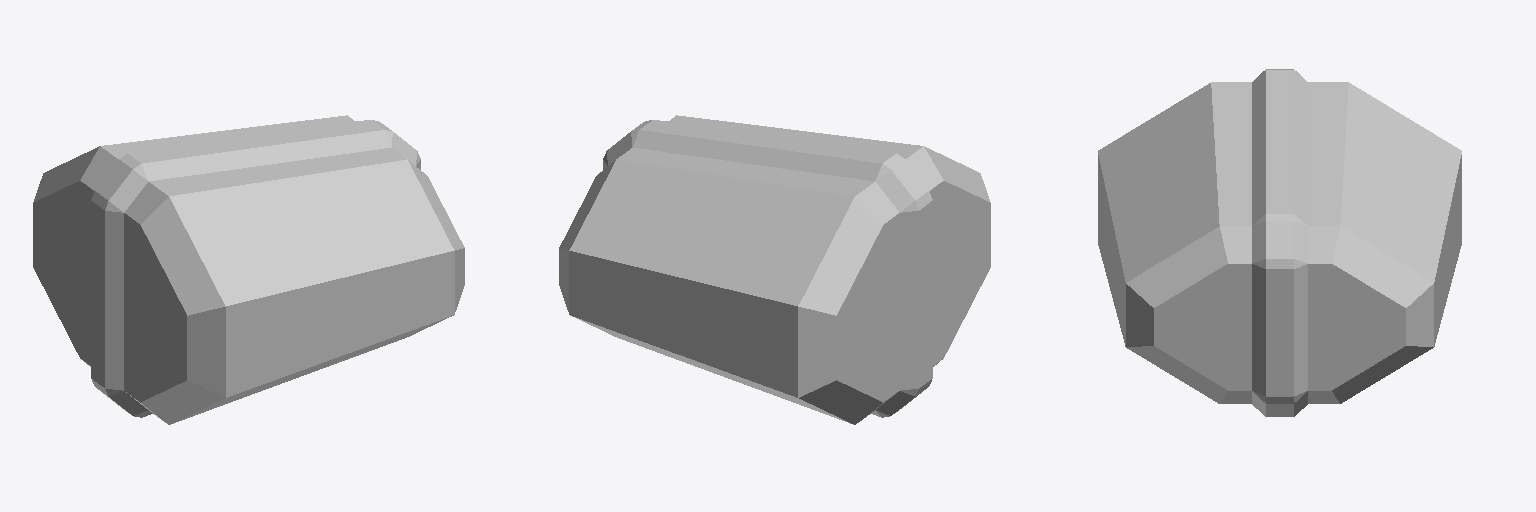
The model's file is Spacestation_Weapon_Modular_Gun_Barrel_Angled.obj.
3 renders of one model, left to right at view 1: azimuth 30°, elevation 25°; view 2: azimuth 150°, elevation 25°; view 3: azimuth 270°, elevation 25°, orthographic.
Parts seen in each view (by area): view 1: object1, object2; view 2: object1, object2; view 3: object1, object2.
Boxes of the visible parts, box(x1,y1,x2,y2) form: object1: box(33, 115, 464, 424); object2: box(91, 120, 420, 417); object1: box(559, 115, 990, 424); object2: box(603, 120, 932, 417); object1: box(1098, 82, 1461, 403); object2: box(1252, 69, 1307, 416).
Size of the model in its own units: 1.3 by 1 by 1.3.